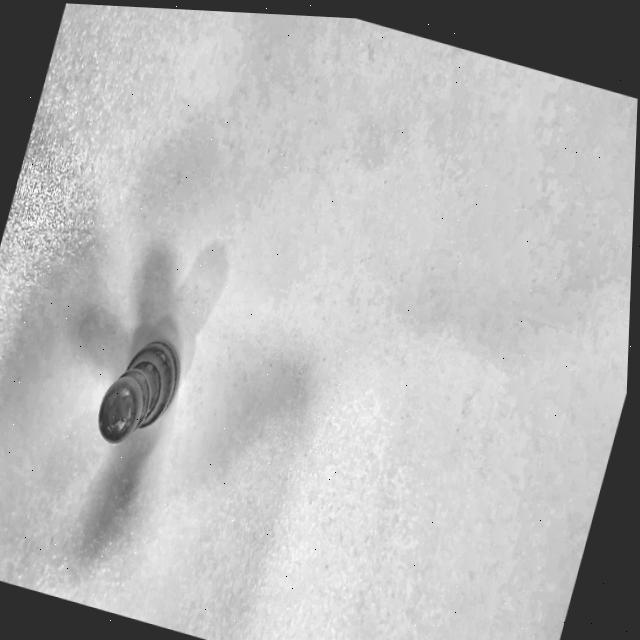black-pawn: (83, 314, 194, 467)
